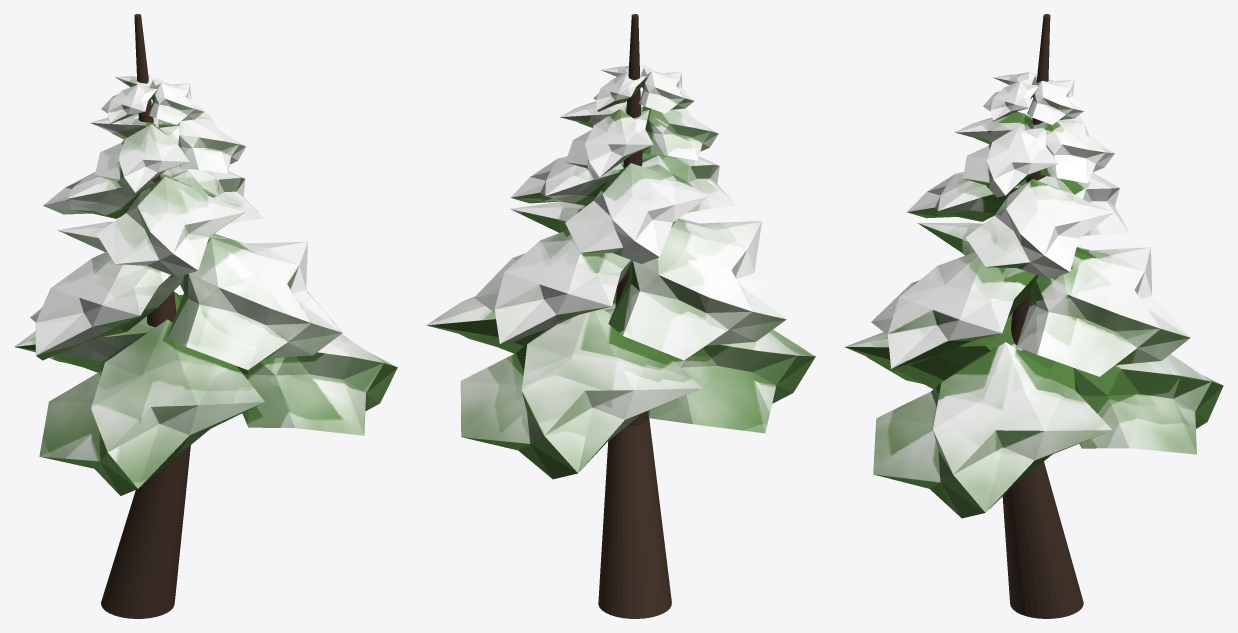
Rendered from tree.dae.
3 renders of one model, left to right at view 1: azimuth 30°, elevation 25°; view 2: azimuth 150°, elevation 25°; view 3: azimuth 270°, elevation 25°, orthographic.
Visible parts, largest first — view 1: Icosphere.012; view 2: Icosphere.012; view 3: Icosphere.012.
Boxes of the visible parts, bbox=[...] form: Icosphere.012: bbox=[14, 14, 397, 618]; Icosphere.012: bbox=[426, 14, 815, 618]; Icosphere.012: bbox=[845, 14, 1223, 618].
Size of the model in its own units: 4.29 by 3.96 by 6.77.
1 material, 1 textured.
